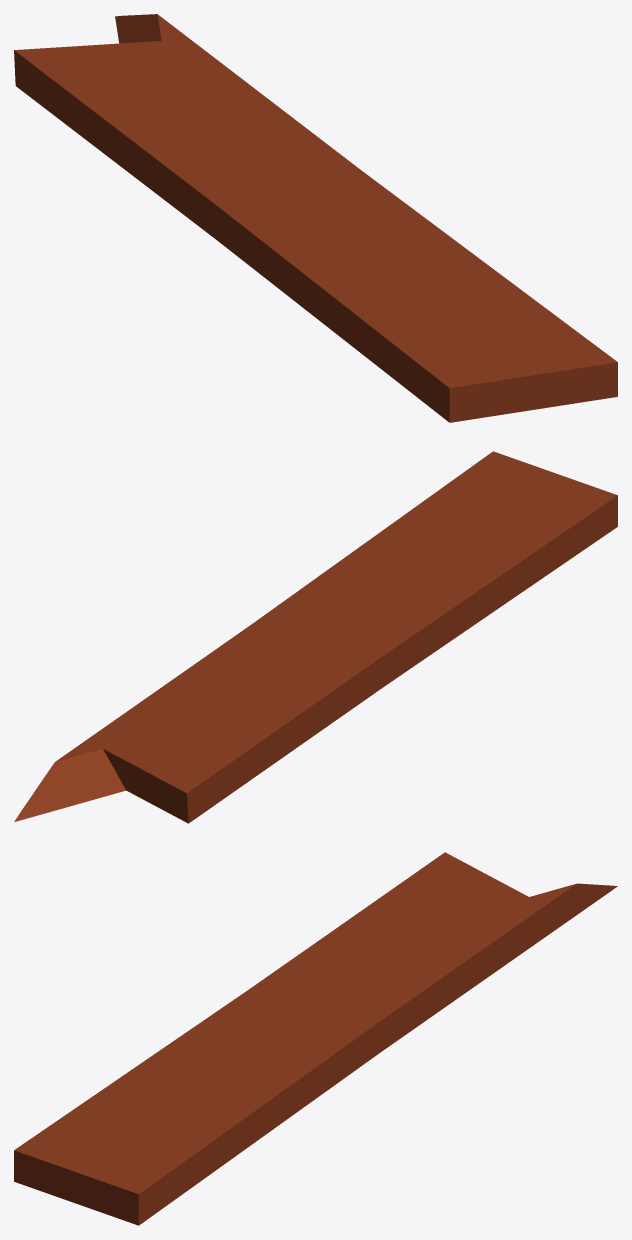
File: BrokenPlanche1.fbx
The picture shows the model from 3 angles, top to bottom: view 1: azimuth 30°, elevation 25°; view 2: azimuth 150°, elevation 25°; view 3: azimuth 330°, elevation 25°; orthographic projection. The views are drawn at different scales.
Parts seen in each view (by area): view 1: BrokenPlanche.001; view 2: BrokenPlanche.001; view 3: BrokenPlanche.001.
Part boxes in pixels (x1=…): BrokenPlanche.001: x1=14, y1=14, x2=617, y2=422; BrokenPlanche.001: x1=14, y1=451, x2=617, y2=823; BrokenPlanche.001: x1=14, y1=852, x2=617, y2=1225.
Bounding box in the file's own units: 193 × 38.61 × 1042.
